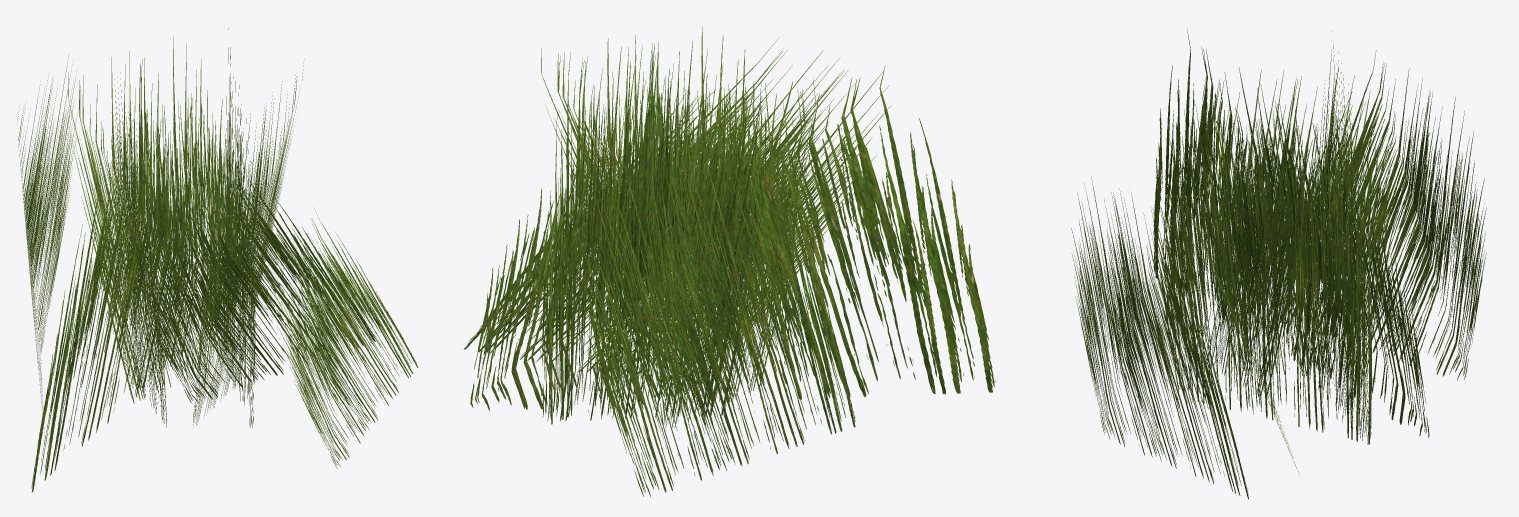
Rendered from grass3.glb.
3 views of the same model, side by side, from view 1: azimuth 30°, elevation 25°; view 2: azimuth 150°, elevation 25°; view 3: azimuth 270°, elevation 25° (orthographic). The views are drawn at different scales.
Parts seen in each view (by area): view 1: grass3; view 2: grass3; view 3: grass3.
Part boxes in pixels (box(x1,y1,x2,y2)): grass3: box(17, 28, 418, 492); grass3: box(463, 27, 996, 497); grass3: box(1071, 29, 1486, 499).
Size of the model in its own units: 2.43 by 1.78 by 2.14.
1 material, 1 textured.
